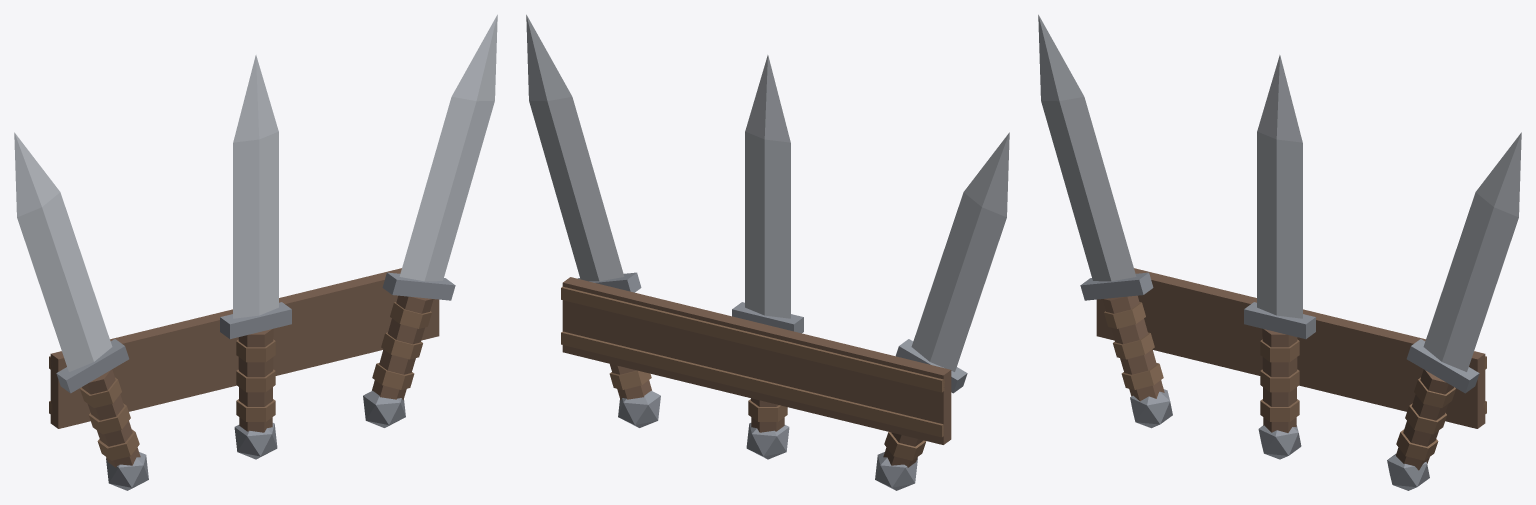
Rendered from Weapon_ThrowingKnives.glb.
3 views of the same model, side by side, from view 1: azimuth 30°, elevation 25°; view 2: azimuth 150°, elevation 25°; view 3: azimuth 330°, elevation 25° (orthographic).
Parts seen in each view (by area): view 1: ThrowingKnives; view 2: ThrowingKnives; view 3: ThrowingKnives.
Boxes of the visible parts, <box> form: ThrowingKnives: <box>14,14,497,490</box>; ThrowingKnives: <box>526,14,1009,490</box>; ThrowingKnives: <box>1038,14,1521,490</box>.
Size of the model in its own units: 0.5079 by 0.407 by 0.0487.
